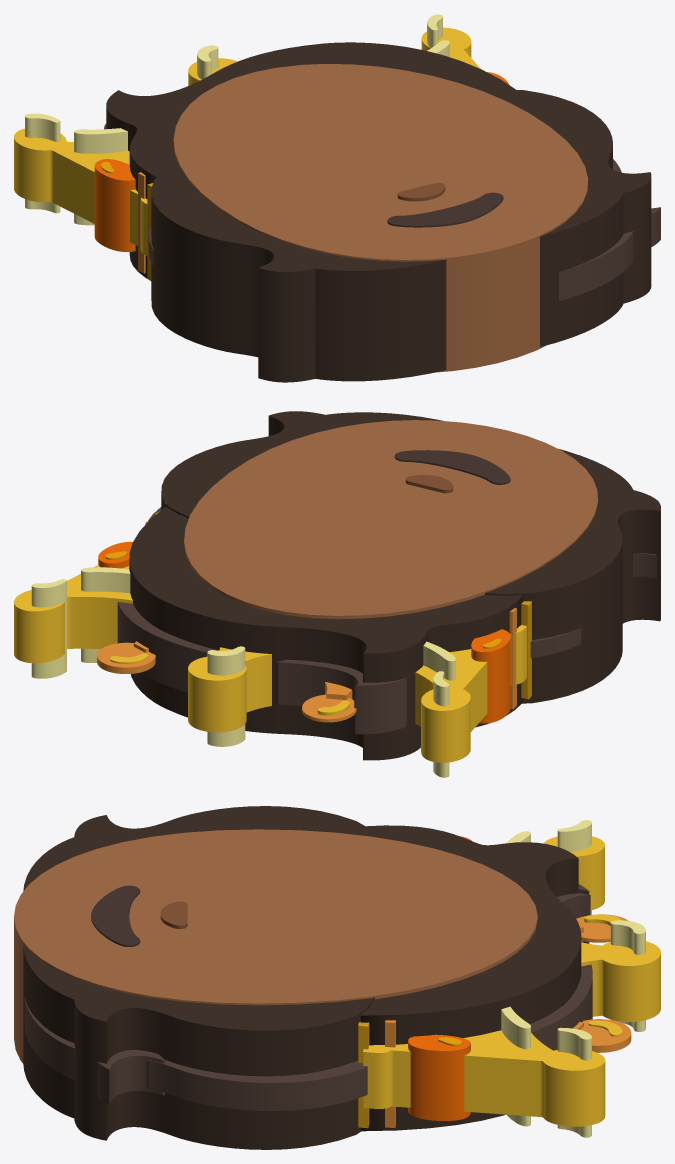
The model's file is emoji_u1fac5_1f3fe.glb.
The picture shows the model from 3 angles, top to bottom: view 1: azimuth 30°, elevation 25°; view 2: azimuth 150°, elevation 25°; view 3: azimuth 270°, elevation 25°; orthographic projection. The views are drawn at different scales.
Parts seen in each view (by area): view 1: emoji_u1fac5_1f3fe; view 2: emoji_u1fac5_1f3fe; view 3: emoji_u1fac5_1f3fe.
Boxes of the visible parts, left/top/right/bottom form: emoji_u1fac5_1f3fe: left=14, top=14, right=660, bottom=382; emoji_u1fac5_1f3fe: left=14, top=411, right=660, bottom=777; emoji_u1fac5_1f3fe: left=14, top=806, right=660, bottom=1149.
Size of the model in its own units: 0.0289 by 0.0074 by 0.0335.
